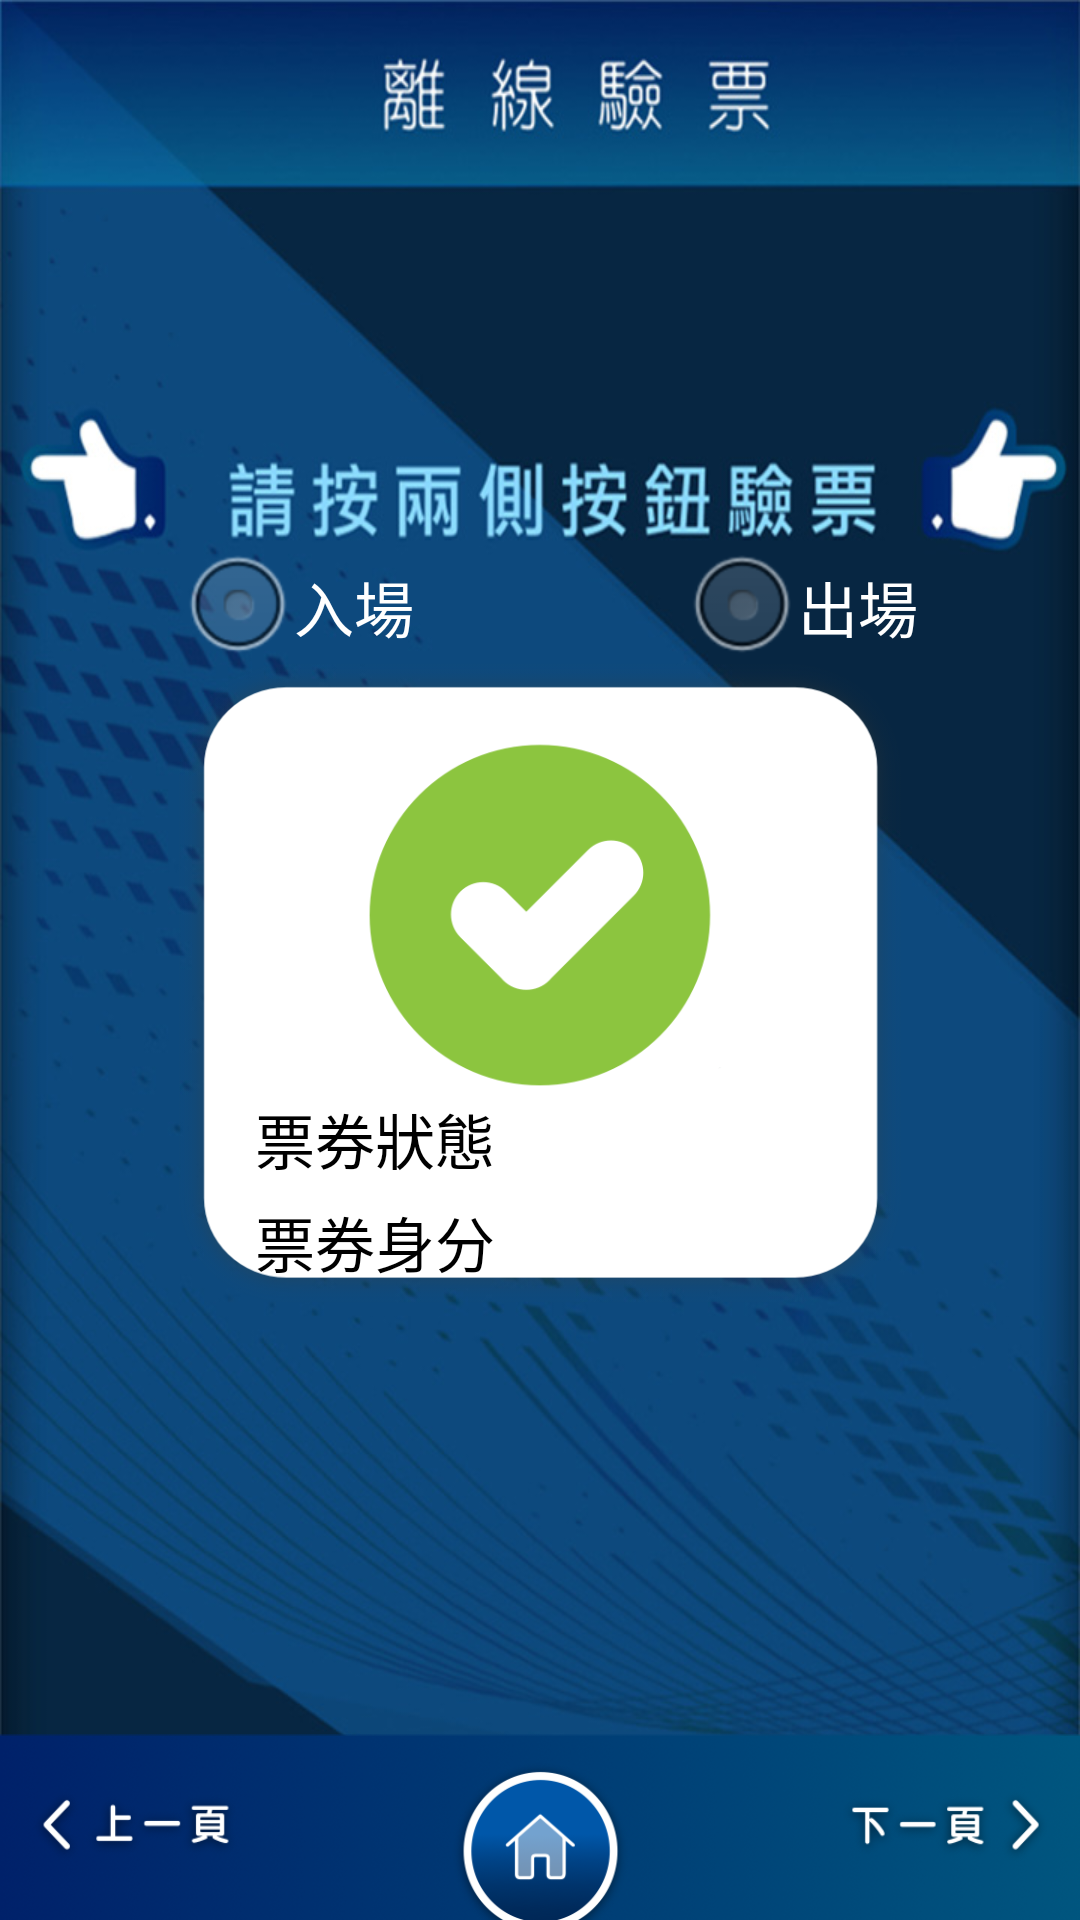

Where icons sit on this 1080x1920 app screen, as rect(x1, y1, x2, y2):
ticket success: rect(369, 744, 711, 1086)
